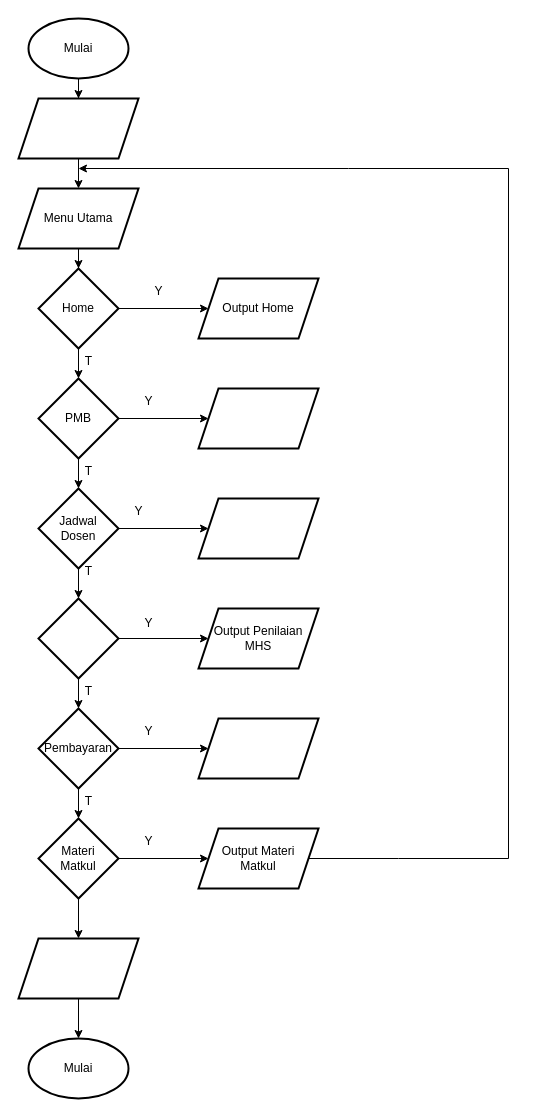
This 534x1116 diagram has some shape labels left out. The box of each missing label's shape, as (x1, y1, x2, y2) in pixels:
Klik Logout: (17, 937, 139, 999)
Login: (17, 97, 139, 159)
Output Jadwal Dosen: (197, 497, 319, 559)
Output Pembayaran: (197, 717, 319, 779)
Output Validasi PMB: (197, 387, 319, 449)
Penilaian MHS: (37, 597, 119, 679)
